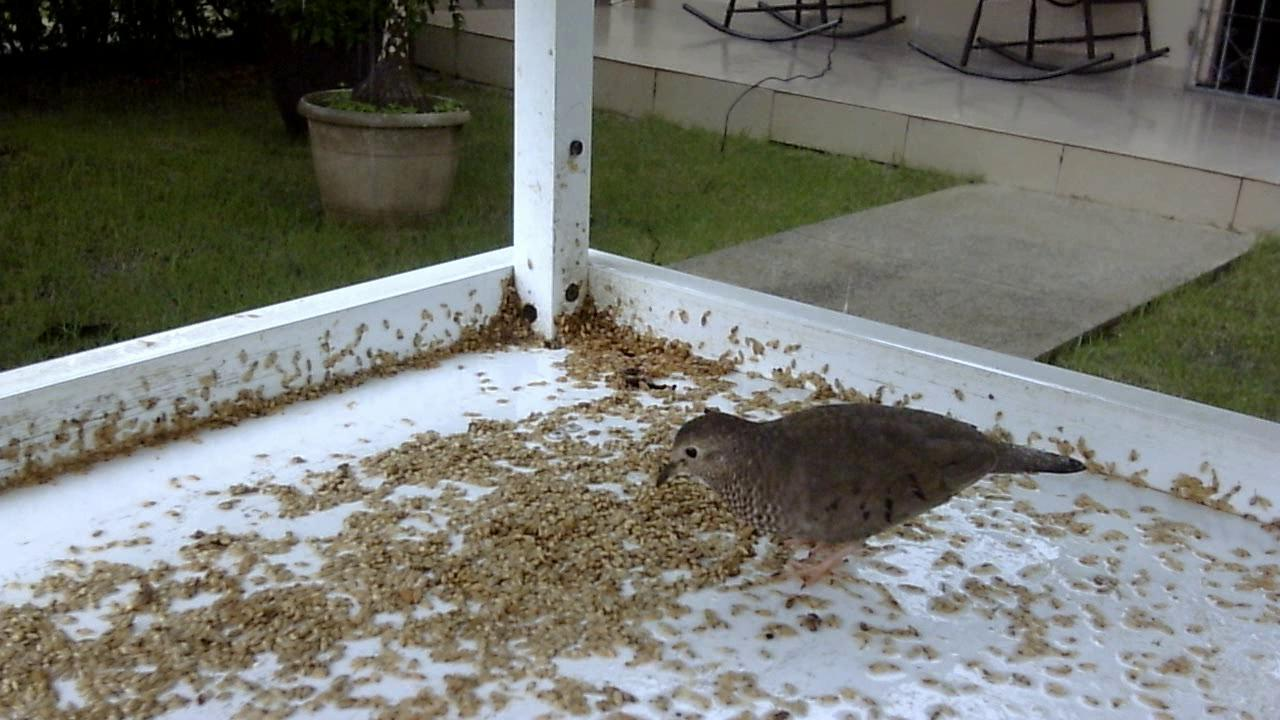rolinha: (652, 390, 1087, 595)
